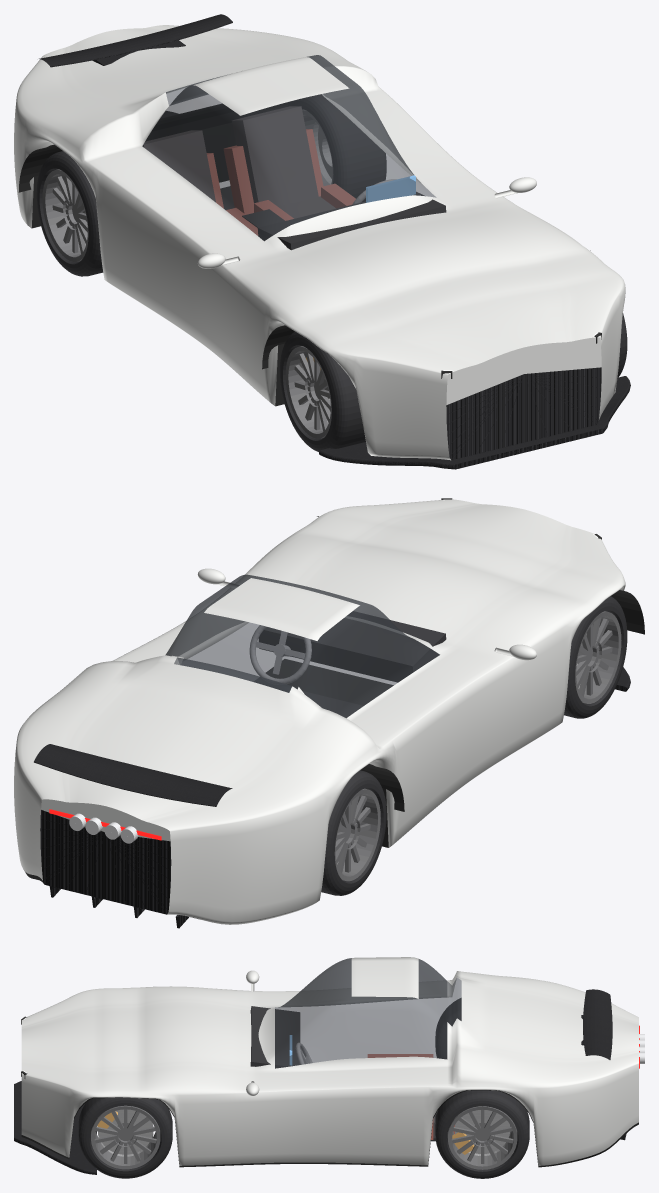
The model's file is lexus-lfa.glb.
3 views of the same model, one above another, from view 1: azimuth 30°, elevation 25°; view 2: azimuth 150°, elevation 25°; view 3: azimuth 270°, elevation 25° (orthographic). The views are drawn at different scales.
Parts seen in each view (by area): view 1: Body_PrimaryPaint, Glass_Windows, Carbon_Exterior, Interior_Seats, Tire_RL, Tire_FR, Underbody, Interior_SeatBolsters, Rim_FR, Rim_RR, Tire_RR, Interior_Dashboard (+3 smaller); view 2: Body_PrimaryPaint, Glass_Windows, Carbon_Exterior, Interior_Dashboard, WheelWells, Rim_FR, Rim_RR, Tire_RR, Tire_FR, Interior_SteeringWheel, Chrome_Trim, Interior_Tub; view 3: Body_PrimaryPaint, Glass_Windows, Carbon_Exterior, Tire_RL, Tire_FL, Rim_FL, Rim_RL, Interior_Dashboard, Underbody, Tire_RR, BrakeDisc_FL, BrakeDisc_RL.
Part boxes in pixels (left/top/right/bottom): Body_PrimaryPaint: left=14, top=25, right=625, bottom=460; Glass_Windows: left=142, top=55, right=436, bottom=240; Carbon_Exterior: left=39, top=14, right=630, bottom=469; Interior_Seats: left=142, top=106, right=335, bottom=218; Tire_RL: left=287, top=94, right=386, bottom=201; Tire_FR: left=279, top=331, right=365, bottom=451; Underbody: left=31, top=103, right=284, bottom=406; Interior_SeatBolsters: left=206, top=129, right=355, bottom=235; Rim_FR: left=285, top=346, right=331, bottom=438; Rim_RR: left=42, top=169, right=88, bottom=261; Tire_RR: left=36, top=151, right=103, bottom=276; Interior_Dashboard: left=257, top=192, right=446, bottom=250; Body_PrimaryPaint: left=14, top=499, right=625, bottom=924; Glass_Windows: left=165, top=574, right=439, bottom=717; Carbon_Exterior: left=34, top=667, right=630, bottom=928; Interior_Dashboard: left=258, top=611, right=446, bottom=682; WheelWells: left=266, top=516, right=644, bottom=811; Rim_FR: left=575, top=611, right=621, bottom=703; Rim_RR: left=334, top=788, right=380, bottom=881; Tire_RR: left=321, top=770, right=386, bottom=895; Tire_FR: left=564, top=596, right=627, bottom=718; Interior_SteeringWheel: left=249, top=625, right=311, bottom=684; Chrome_Trim: left=69, top=813, right=138, bottom=843; Interior_Tub: left=302, top=691, right=363, bottom=717; Body_PrimaryPaint: left=21, top=957, right=638, bottom=1165; Glass_Windows: left=275, top=958, right=461, bottom=1068; Carbon_Exterior: left=14, top=989, right=626, bottom=1174; Tire_RL: left=435, top=1090, right=529, bottom=1178; Tire_FL: left=78, top=1097, right=172, bottom=1178; Rim_FL: left=91, top=1105, right=160, bottom=1169; Rim_RL: left=447, top=1106, right=517, bottom=1169; Interior_Dashboard: left=250, top=1006, right=300, bottom=1068; Underbody: left=21, top=1090, right=638, bottom=1167; Tire_RR: left=435, top=998, right=461, bottom=1058; BrakeDisc_FL: left=98, top=1109, right=153, bottom=1156; BrakeDisc_RL: left=455, top=1110, right=510, bottom=1155.
Size of the model in its own units: 2.1 by 1.22 by 4.6.
Materials: 16 (2 with a texture image).
